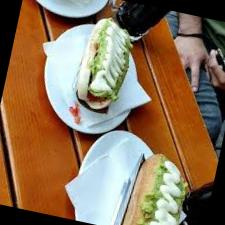Completos: (68, 14, 136, 116), (115, 156, 195, 225)
